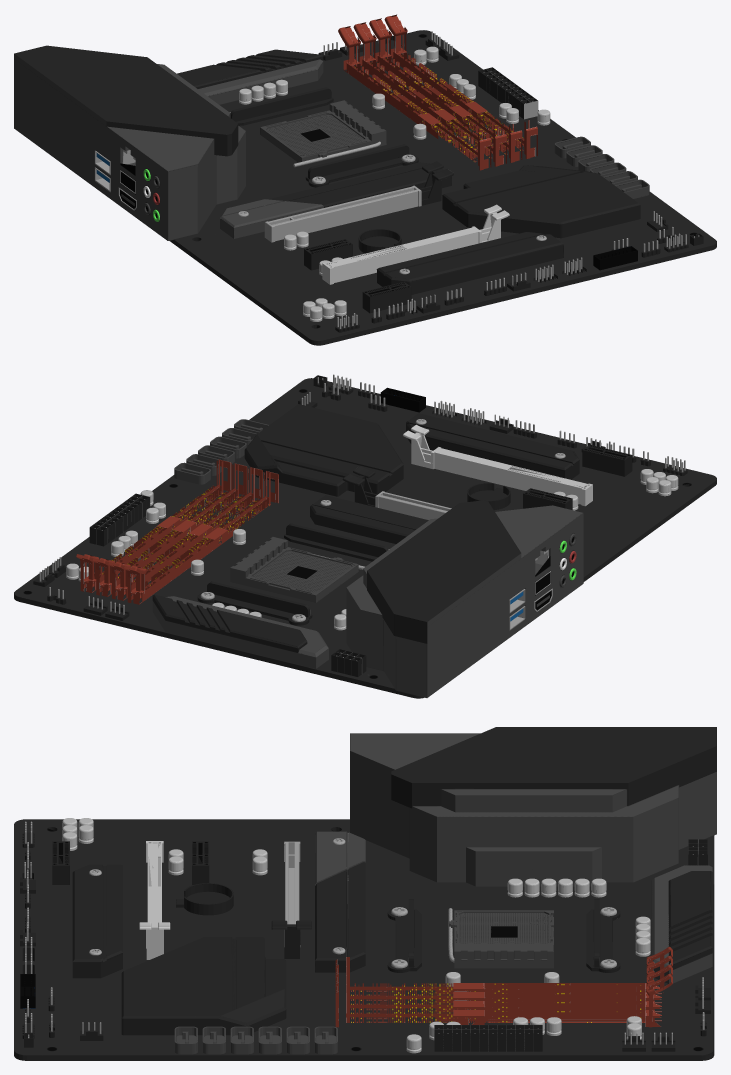
Rendered from ATX.fbx.
3 views of the same model, one above another, from view 1: azimuth 30°, elevation 25°; view 2: azimuth 150°, elevation 25°; view 3: azimuth 270°, elevation 25° (orthographic). The views are drawn at different scales.
Visible parts, largest first — view 1: BOARD.001, IO, RAM.001, BRIDGE.001, PINS, M2 2.001, M2 1.001, CPU_TRAY.001, WHATEVERTHISIS, PCI E1.001, COOLER_BRACKET.001, Cylinder.024 (+6 smaller); view 2: BOARD.001, IO, RAM.001, BRIDGE.001, PINS, WHATEVERTHISIS, CPU_TRAY.001, M2 2.001, PCI E3.001, COOLER_BRACKET.001, M2 1.001, Cylinder.024 (+6 smaller); view 3: BOARD.001, IO, BRIDGE.001, RAM.001, PINS, M2 1.001, WHATEVERTHISIS, CPU_TRAY.001, M2 2.001, Cylinder.024, SATA, COOLER_BRACKET.001 (+6 smaller).
Part boxes in pixels (bbox=[...]): BOARD.001: bbox=[169, 30, 716, 345]; IO: bbox=[14, 45, 245, 240]; RAM.001: bbox=[338, 14, 537, 170]; BRIDGE.001: bbox=[442, 165, 640, 238]; PINS: bbox=[318, 29, 703, 332]; M2 2.001: bbox=[376, 232, 563, 294]; M2 1.001: bbox=[220, 162, 451, 238]; CPU_TRAY.001: bbox=[260, 100, 386, 167]; WHATEVERTHISIS: bbox=[177, 49, 323, 104]; PCI E1.001: bbox=[264, 161, 453, 242]; COOLER_BRACKET.001: bbox=[230, 87, 418, 187]; Cylinder.024: bbox=[239, 46, 550, 321]; BOARD.001: bbox=[14, 378, 716, 698]; IO: bbox=[346, 500, 583, 697]; RAM.001: bbox=[76, 459, 278, 604]; BRIDGE.001: bbox=[244, 404, 403, 496]; PINS: bbox=[33, 374, 687, 676]; WHATEVERTHISIS: bbox=[152, 594, 328, 668]; CPU_TRAY.001: bbox=[230, 537, 364, 602]; M2 2.001: bbox=[406, 413, 579, 479]; PCI E3.001: bbox=[403, 424, 592, 506]; COOLER_BRACKET.001: bbox=[197, 523, 389, 625]; M2 1.001: bbox=[310, 495, 428, 543]; Cylinder.024: bbox=[66, 469, 678, 630]; BOARD.001: bbox=[14, 819, 714, 1060]; IO: bbox=[350, 727, 716, 886]; BRIDGE.001: bbox=[121, 937, 286, 1035]; RAM.001: bbox=[335, 946, 672, 1027]; PINS: bbox=[20, 821, 710, 1051]; M2 1.001: bbox=[315, 831, 365, 972]; WHATEVERTHISIS: bbox=[651, 865, 712, 983]; CPU_TRAY.001: bbox=[448, 908, 553, 968]; M2 2.001: bbox=[72, 864, 122, 978]; Cylinder.024: bbox=[62, 818, 650, 1053]; SATA: bbox=[174, 1026, 337, 1054]; COOLER_BRACKET.001: bbox=[387, 899, 620, 972].
Bounding box in the file's own units: 392 × 71.85 × 485.
